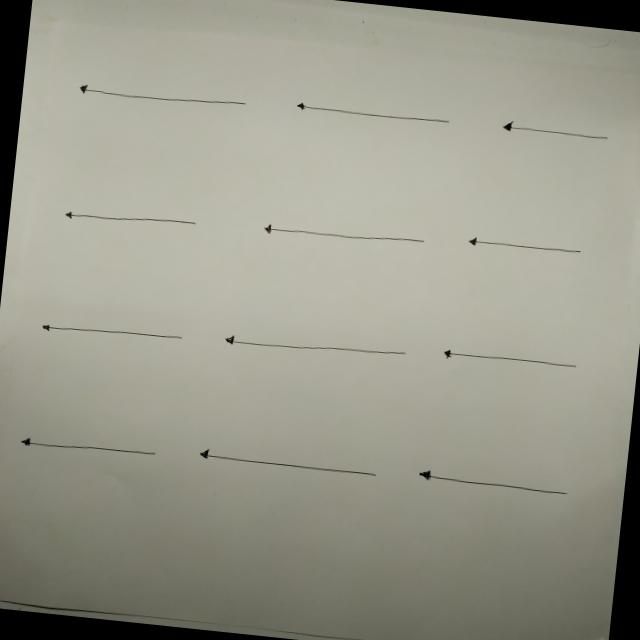arrow_line_left: (183, 439, 392, 491), (208, 323, 419, 373), (60, 74, 263, 123), (400, 458, 580, 507), (247, 212, 436, 257), (282, 95, 460, 140), (5, 426, 167, 469), (428, 342, 590, 384), (32, 312, 192, 354), (47, 197, 206, 235), (452, 228, 596, 267), (490, 113, 616, 149)
